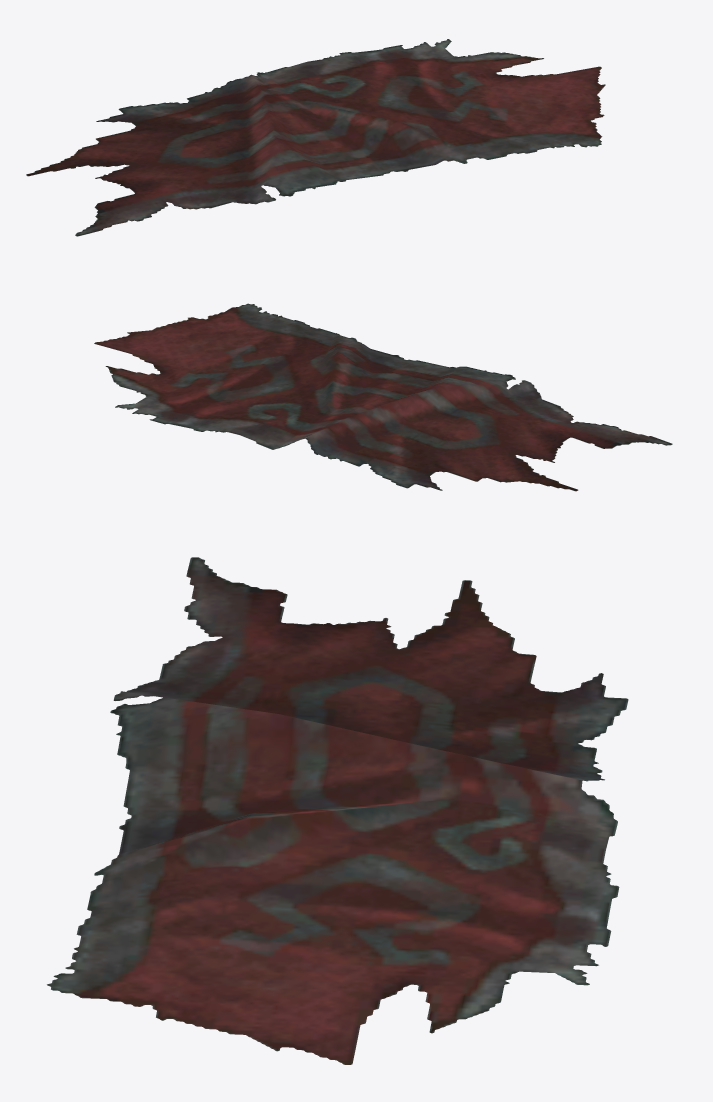
The model's file is crypt_rug02.fbx.
3 renders of one model, top to bottom at view 1: azimuth 30°, elevation 25°; view 2: azimuth 150°, elevation 25°; view 3: azimuth 270°, elevation 25°, orthographic. The views are drawn at different scales.
Visible parts, largest first — view 1: banners_shadow_mat; view 2: banners_shadow_mat; view 3: banners_shadow_mat.
Boxes of the visible parts, left/top/right/bottom form: banners_shadow_mat: left=26, top=39, right=605, bottom=236; banners_shadow_mat: left=94, top=303, right=672, bottom=491; banners_shadow_mat: left=47, top=557, right=628, bottom=1064.
Size of the model in its own units: 5.97 by 0.2291 by 3.18.
